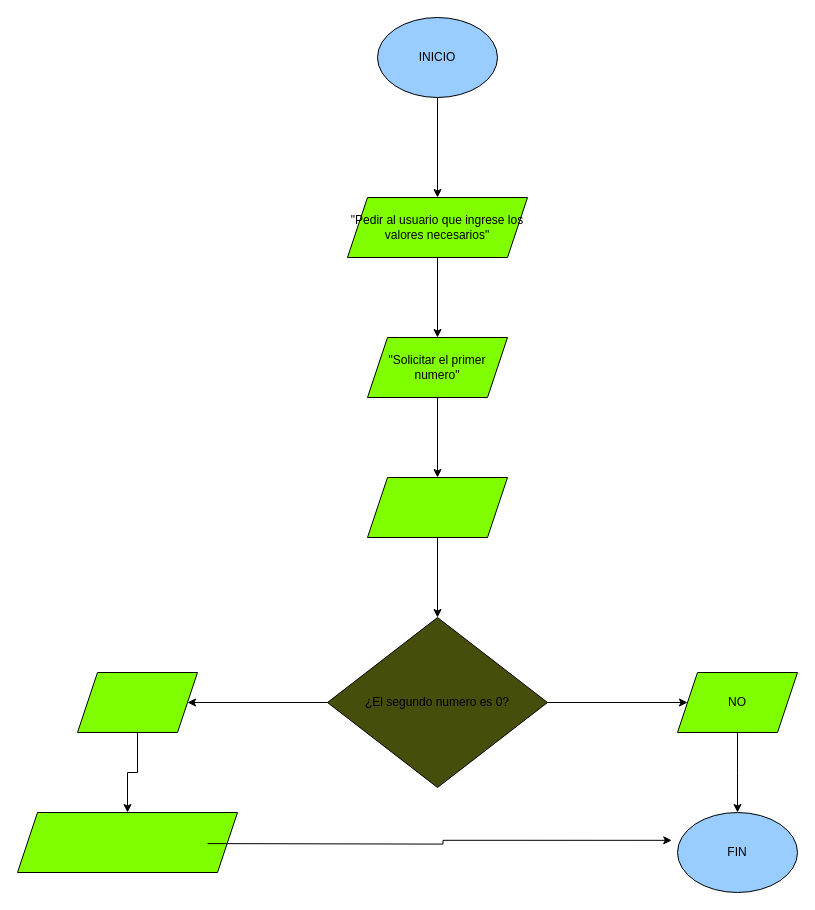
The diagram is 815 pixels wide and 910 high, and some of its shapes have lost their labels. Each missing label, with the centre of its shape:
"Mostrar mensaje: no se puede dividir entre cero: point 127,842
"Solicitar segundo numero": point 437,507
SI: point 137,702
